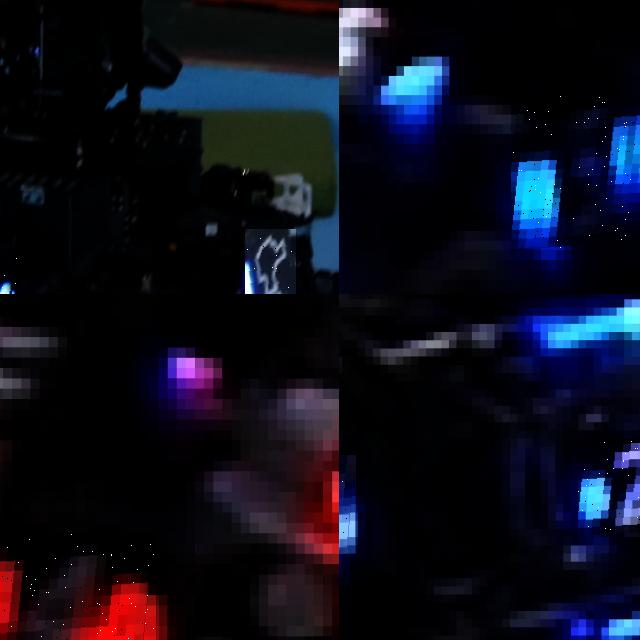B2: (578, 438, 640, 537), (339, 455, 357, 553)
B5: (510, 95, 640, 250)
Bs: (245, 229, 297, 294)
R4: (0, 533, 158, 640)
